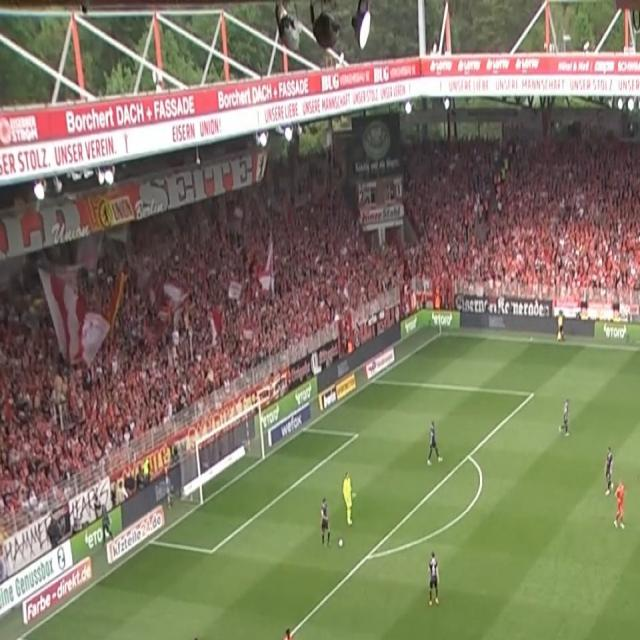ball: (338, 537, 344, 549)
